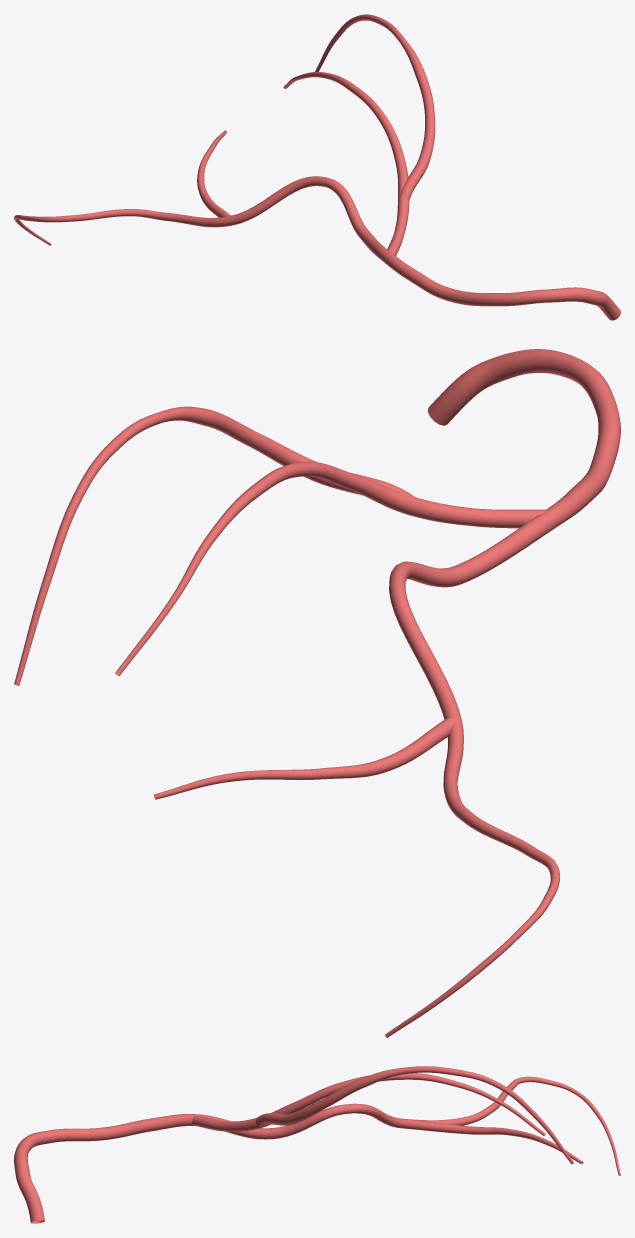
The model's file is Superior_cerebellar_artery.r_BezierCurve.241.glb.
The picture shows the model from 3 angles, top to bottom: view 1: azimuth 30°, elevation 25°; view 2: azimuth 150°, elevation 25°; view 3: azimuth 270°, elevation 25°; orthographic projection. The views are drawn at different scales.
Parts seen in each view (by area): view 1: Superior_cerebellar_artery.r_BezierCurve.241; view 2: Superior_cerebellar_artery.r_BezierCurve.241; view 3: Superior_cerebellar_artery.r_BezierCurve.241.
Boxes of the visible parts, x1,y1,x2,y2 form: Superior_cerebellar_artery.r_BezierCurve.241: (14, 14, 620, 320); Superior_cerebellar_artery.r_BezierCurve.241: (14, 349, 620, 1037); Superior_cerebellar_artery.r_BezierCurve.241: (14, 1066, 620, 1223).
Bounding box in the file's own units: 0.0463 × 0.0308 × 0.0748.
